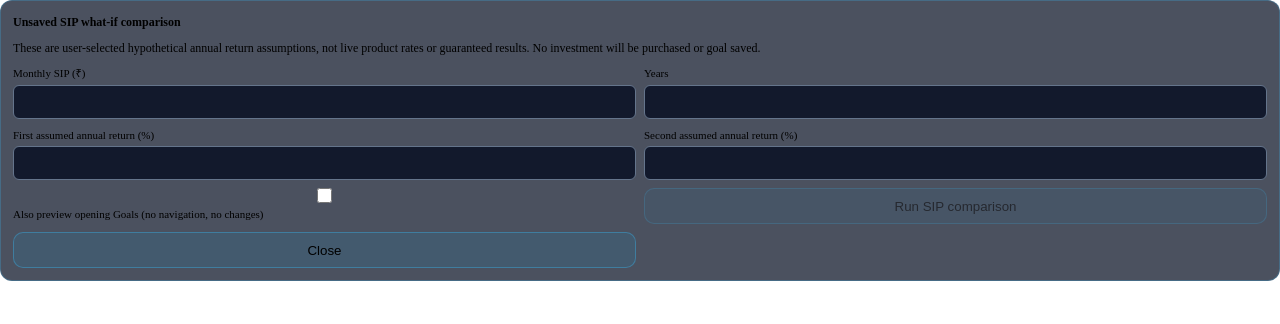
Test: Sovereign SIP comparison › rejects mismatching source inputs even if server metadata claims validation
Step 1. Type "5000" into the number field named "Monthly SIP amount" → point(324, 102), box 13,84 -> 636,118
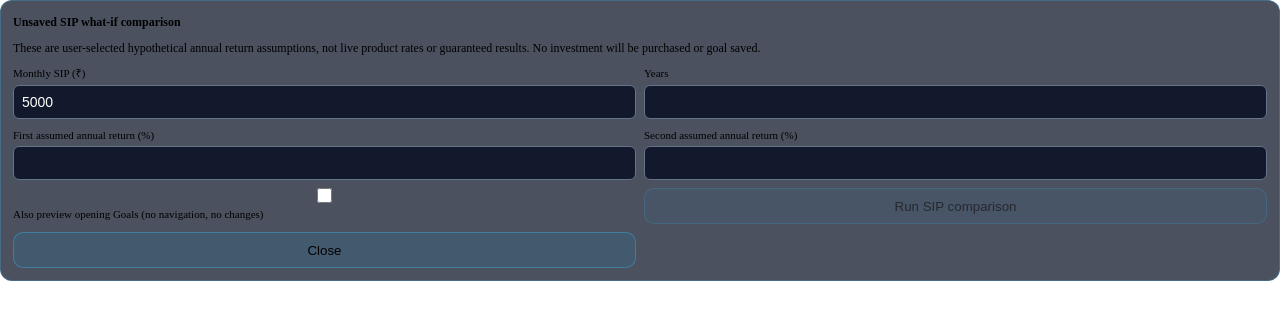
Step 2. Type "10" into the number field named "SIP years" → point(956, 102), box 644,84 -> 1267,118
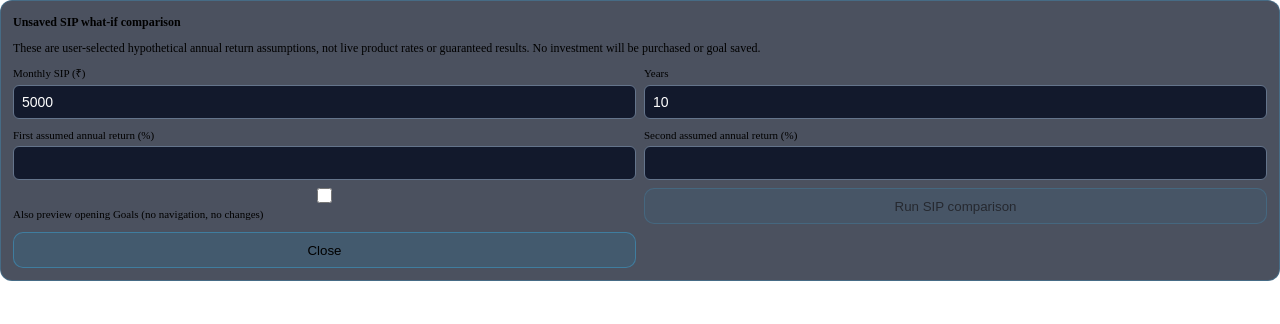
Step 3. Type "7" into the number field named "First annual return assumption" → point(324, 163), box 13,146 -> 636,180
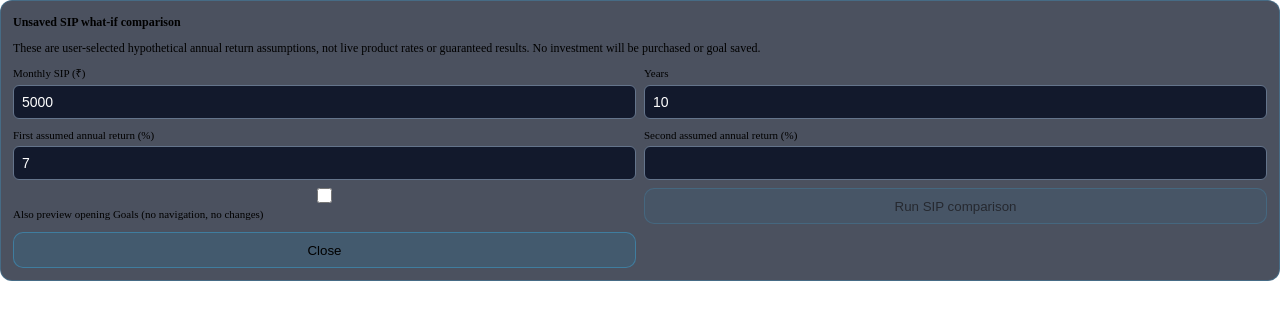
Step 4. Type "10" into the number field named "Second annual return assumption" → point(956, 163), box 644,146 -> 1267,180
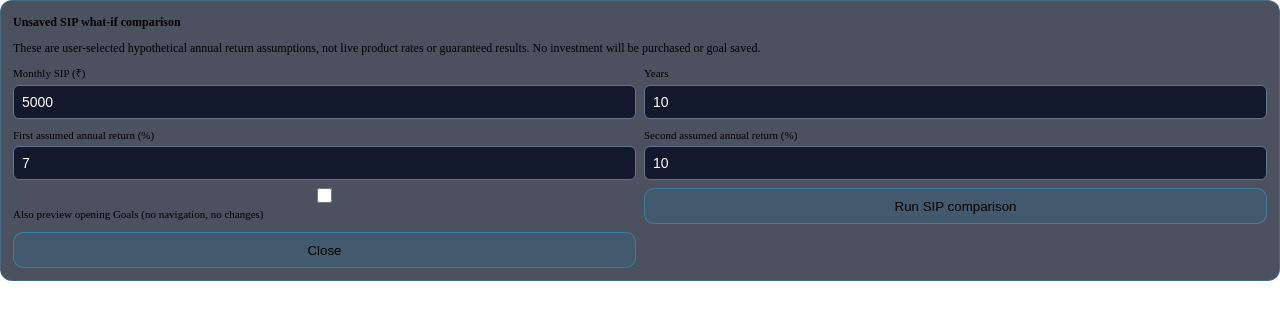
Step 5. Click the button "Run SIP comparison" → point(956, 206), box 644,188 -> 1267,224
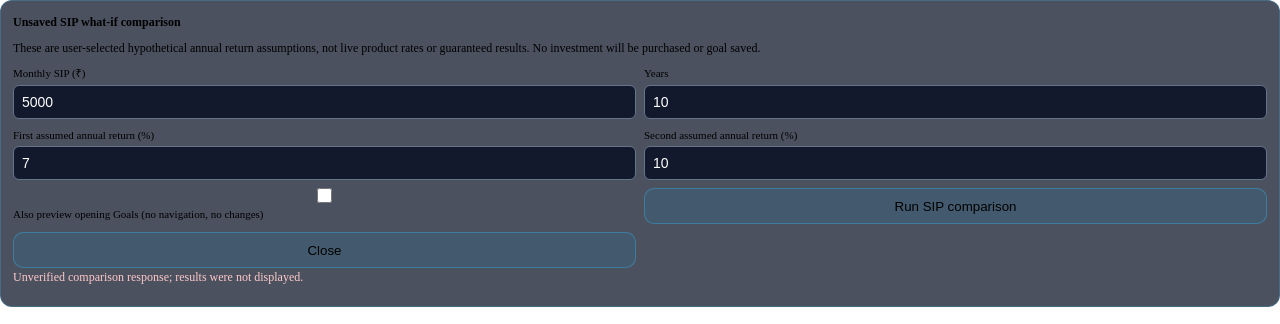
Expected: the message shows "Unverified comparison", 13,270 -> 303,284
